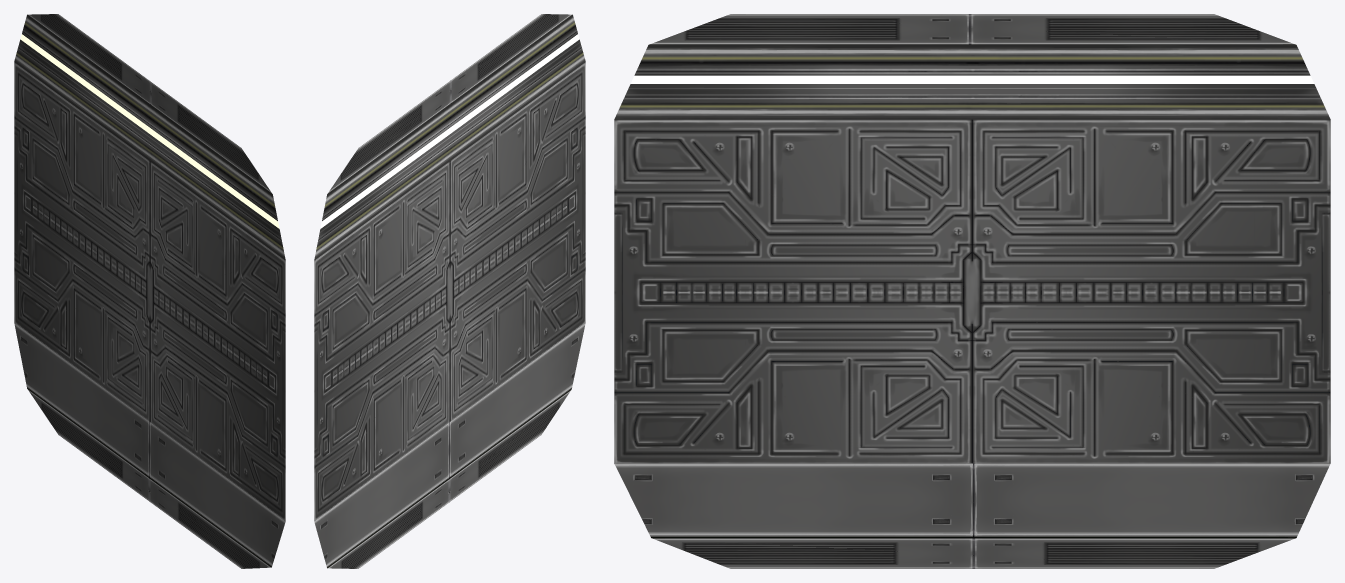
File: Corridor_Wall.fbx
The picture shows the model from 3 angles, left to right: view 1: azimuth 30°, elevation 25°; view 2: azimuth 150°, elevation 25°; view 3: azimuth 270°, elevation 25°; orthographic projection. The views are drawn at different scales.
Parts seen in each view (by area): view 1: Parede.014; view 2: Parede.014; view 3: Parede.014.
Part boxes in pixels (left/top/right/bottom): Parede.014: left=14, top=14, right=285, bottom=568; Parede.014: left=314, top=14, right=585, bottom=568; Parede.014: left=614, top=14, right=1330, bottom=568.
Size of the model in its own units: 0 by 507 by 593.
